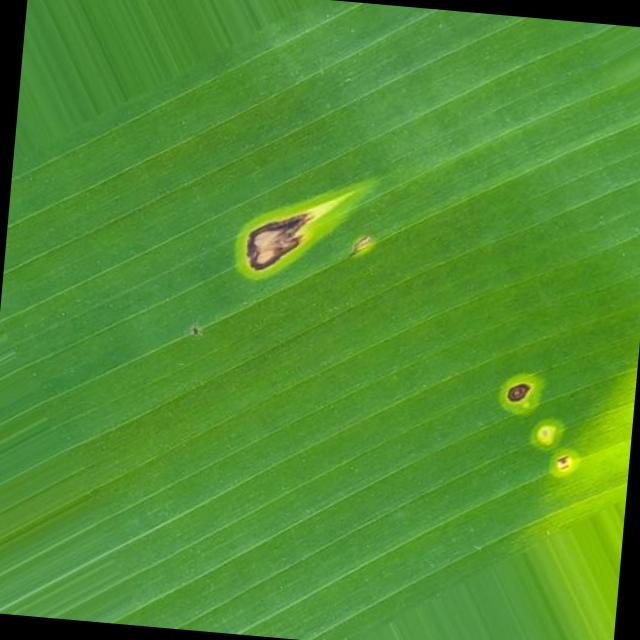Banana_Black_Sigatoka: (190, 142, 438, 339), (437, 337, 606, 496)
